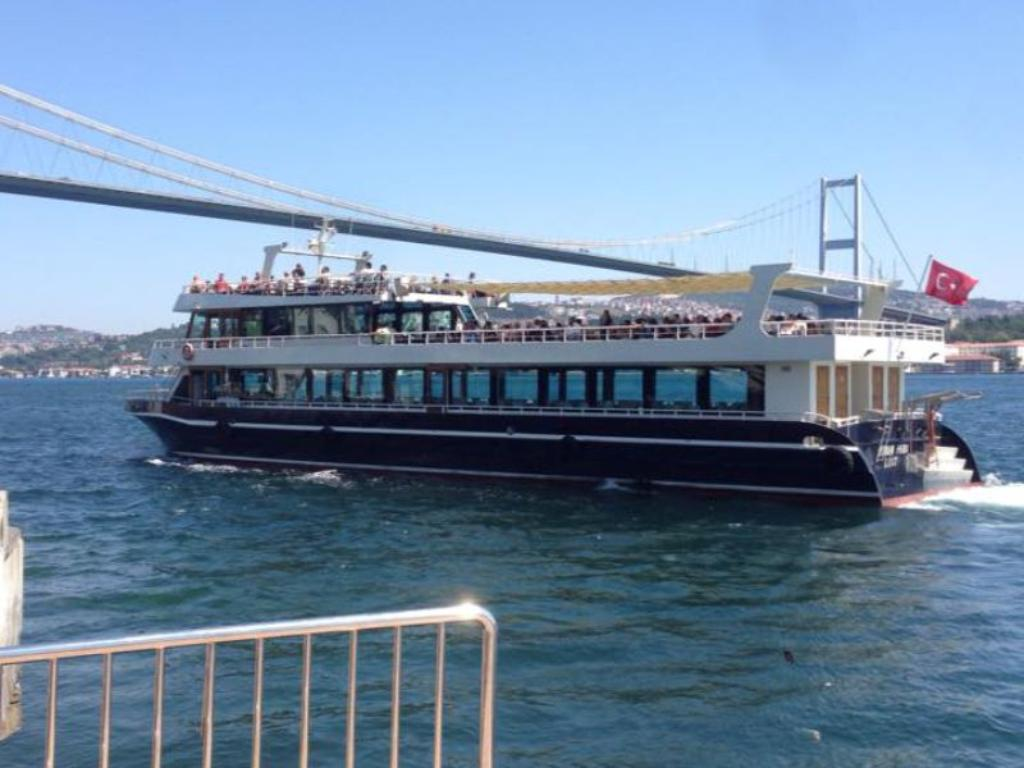PassengerShip: (102, 201, 1000, 521)
